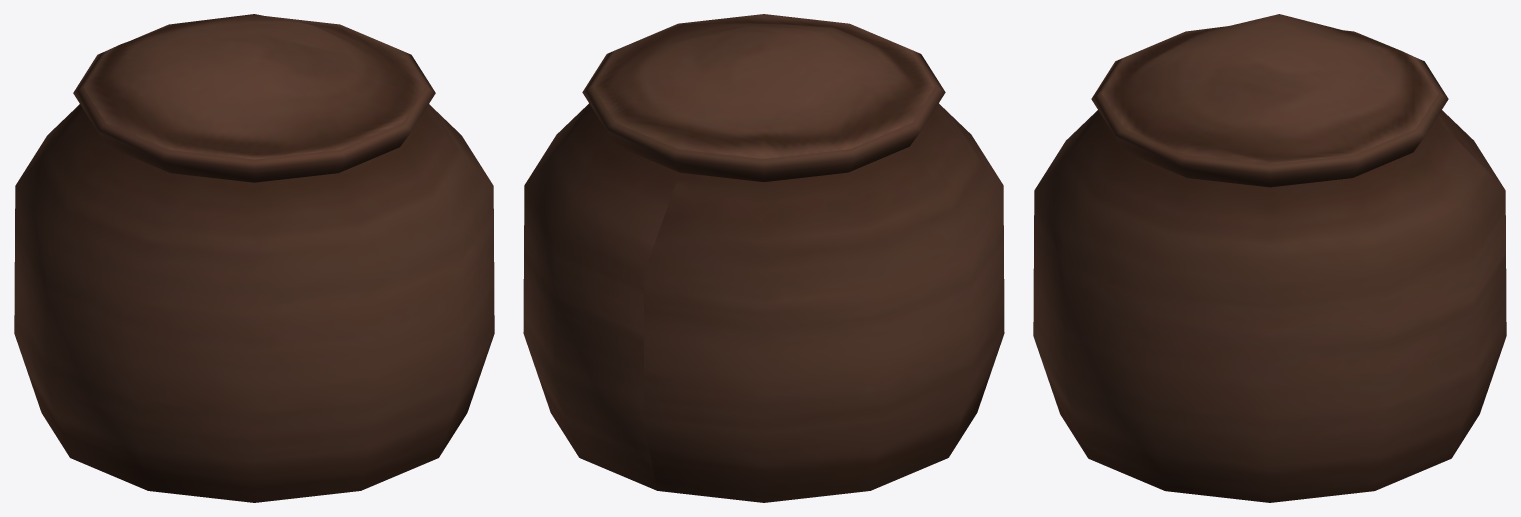
Rendered from ClayPot03_Geo.fbx.
3 renders of one model, left to right at view 1: azimuth 30°, elevation 25°; view 2: azimuth 150°, elevation 25°; view 3: azimuth 270°, elevation 25°, orthographic.
Parts seen in each view (by area): view 1: ClayPot03_Geo; view 2: ClayPot03_Geo; view 3: ClayPot03_Geo.
Boxes of the visible parts, x1,y1,x2,y2 form: ClayPot03_Geo: (14, 14, 494, 502); ClayPot03_Geo: (523, 14, 1004, 502); ClayPot03_Geo: (1033, 14, 1506, 502).
Size of the model in its own units: 29.04 by 24.14 by 29.04.
